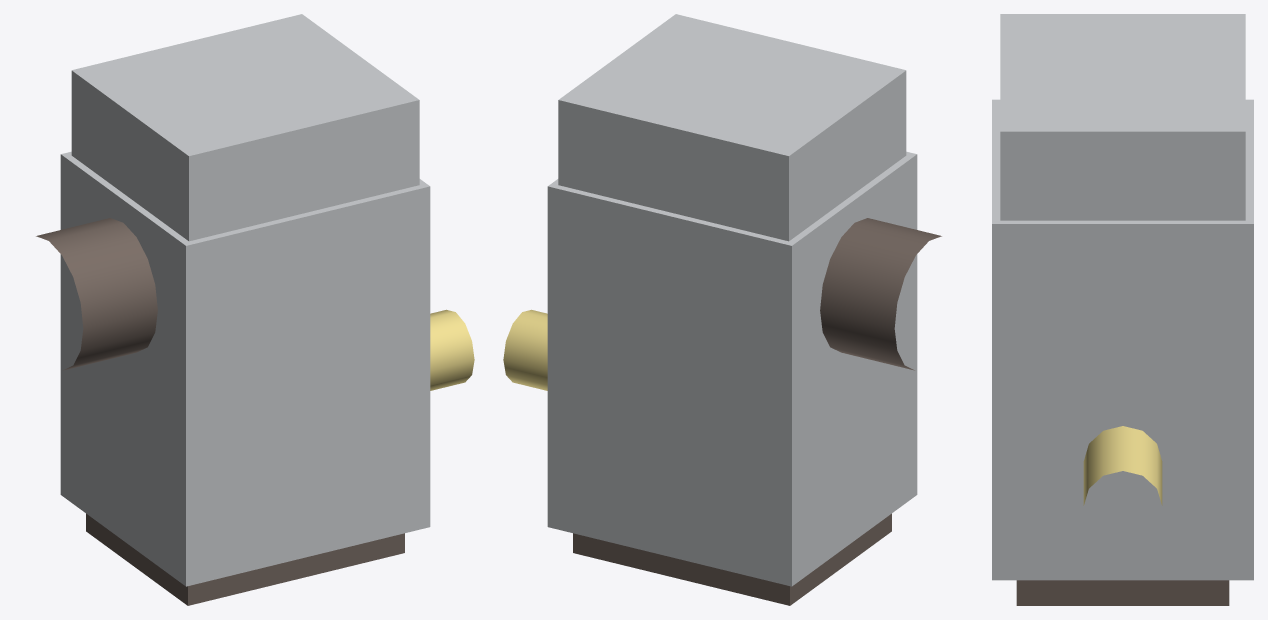
The model's file is vw67_solex_30_pict.glb.
The picture shows the model from 3 angles, left to right: view 1: azimuth 30°, elevation 25°; view 2: azimuth 150°, elevation 25°; view 3: azimuth 270°, elevation 25°; orthographic projection. The views are drawn at different scales.
Visible parts, largest first — view 1: node_solex_carburetor_body, node_solex_top_lid, node_solex_auto_choke, node_solex_insulating_flange, node_solex_cutoff_solenoid; view 2: node_solex_carburetor_body, node_solex_top_lid, node_solex_auto_choke, node_solex_insulating_flange, node_solex_cutoff_solenoid; view 3: node_solex_carburetor_body, node_solex_top_lid, node_solex_insulating_flange, node_solex_cutoff_solenoid.
Boxes of the visible parts, x1,y1,x2,y2 form: node_solex_carburetor_body: (60, 151, 430, 586); node_solex_top_lid: (71, 14, 419, 241); node_solex_auto_choke: (36, 218, 157, 370); node_solex_insulating_flange: (86, 513, 404, 605); node_solex_cutoff_solenoid: (430, 309, 474, 390); node_solex_carburetor_body: (547, 151, 917, 586); node_solex_top_lid: (558, 14, 906, 241); node_solex_auto_choke: (820, 218, 941, 370); node_solex_insulating_flange: (573, 513, 891, 605); node_solex_cutoff_solenoid: (503, 309, 547, 390); node_solex_carburetor_body: (992, 99, 1253, 580); node_solex_top_lid: (1000, 14, 1245, 220); node_solex_insulating_flange: (1016, 580, 1229, 605); node_solex_cutoff_solenoid: (1083, 426, 1162, 505).
Size of the model in its own units: 0.15 by 0.161 by 0.08.
